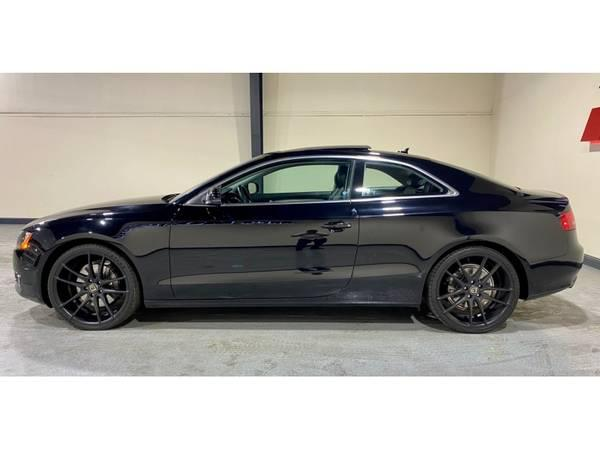Front_Bumper: (11, 245, 43, 308)
Front_Fender: (26, 205, 170, 306)
Front_Left_Door: (165, 203, 353, 306)
Front_Left_Window: (173, 157, 352, 207)
Left_Headlight: (14, 232, 34, 251)
Left_Taillight: (556, 207, 574, 231)
Rear_Bumper: (525, 232, 583, 296)
Rear_Fender: (341, 159, 570, 306)
Roof: (173, 144, 523, 205)
Wheel: (42, 242, 136, 329), (429, 248, 517, 333)
